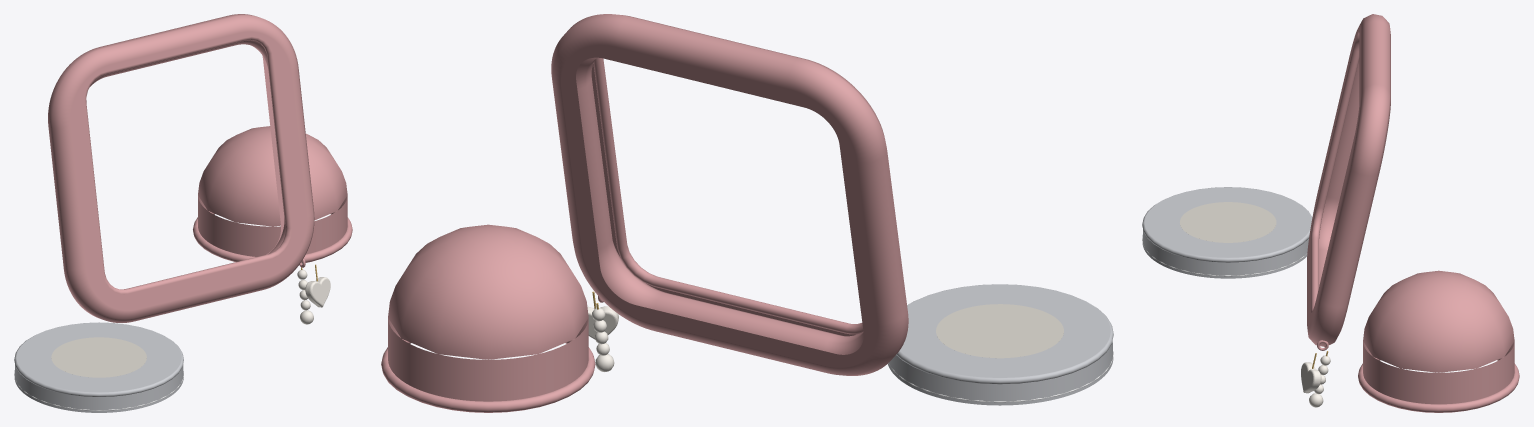
The model's file is blush.glb.
3 views of the same model, side by side, from view 1: azimuth 30°, elevation 25°; view 2: azimuth 150°, elevation 25°; view 3: azimuth 270°, elevation 25° (orthographic). The views are drawn at different scales.
Bounding box in the file's own units: 0.2847 × 0.1919 × 0.2187.
